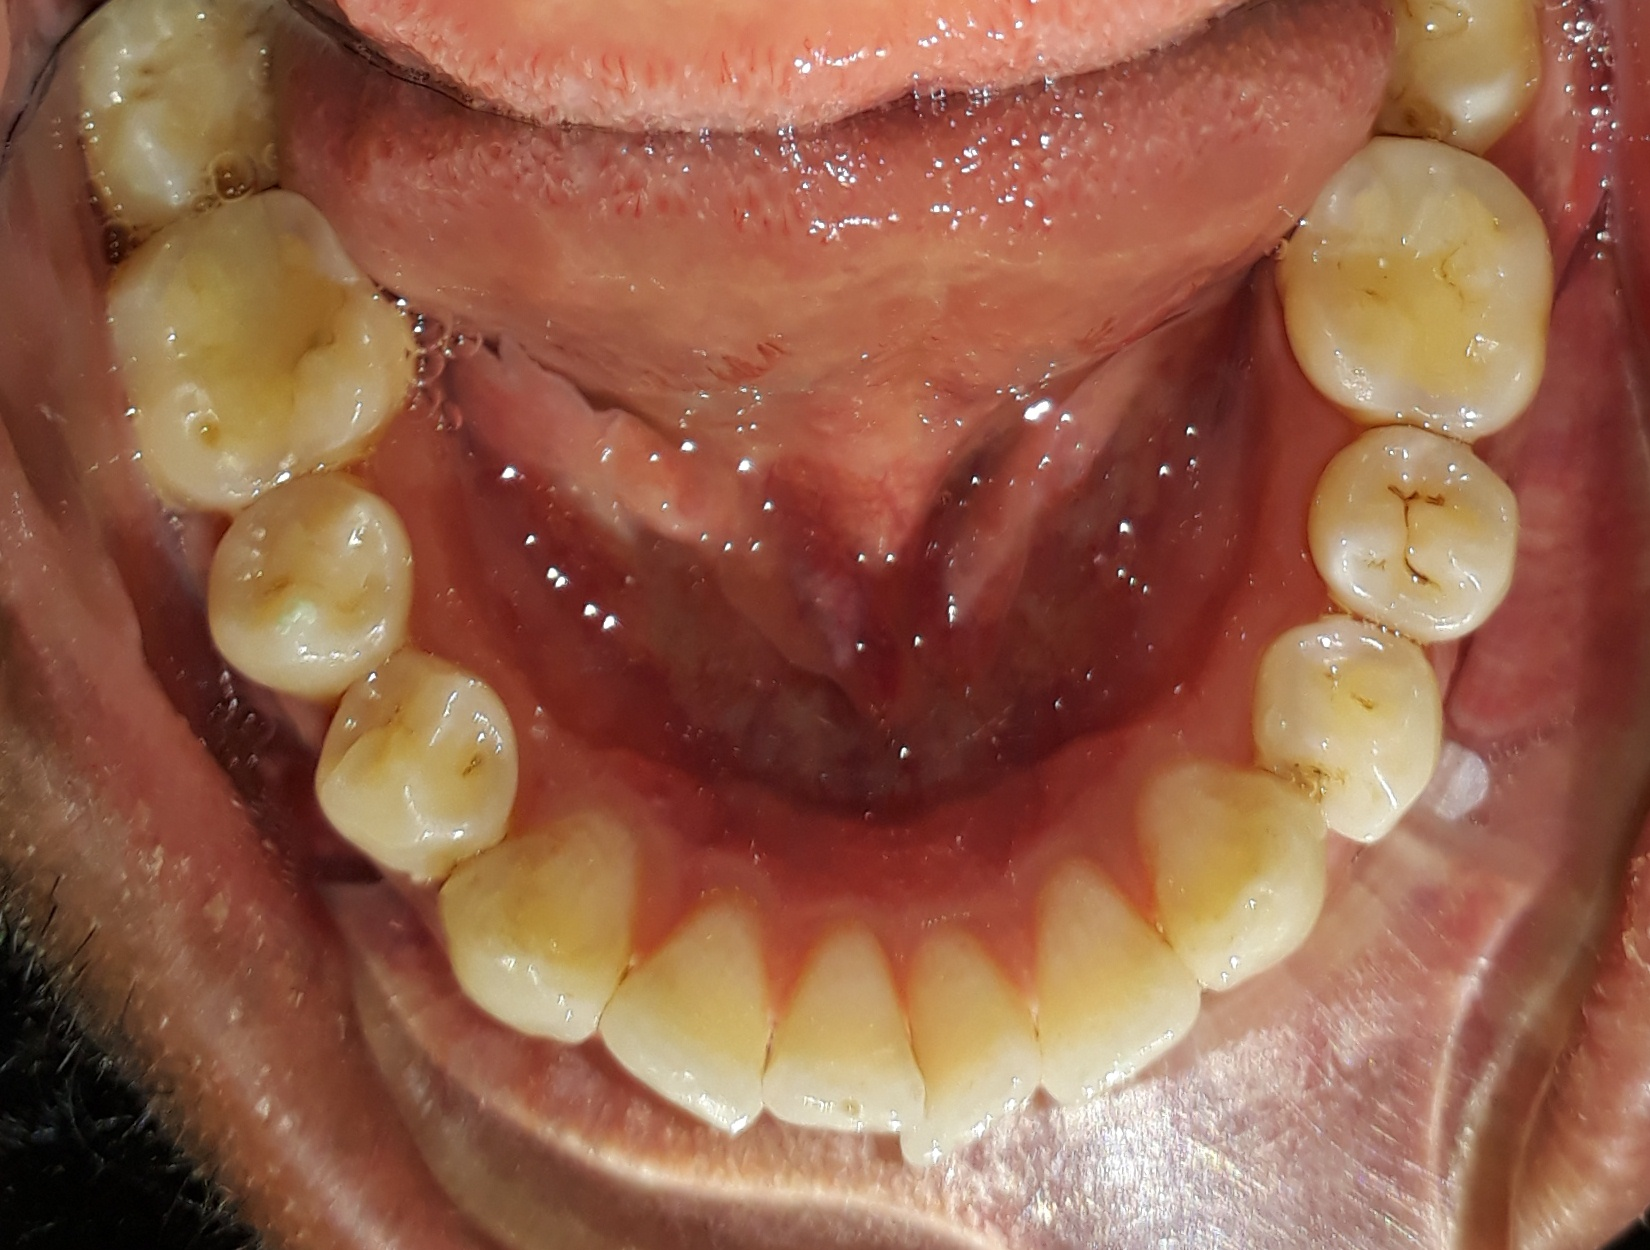1st Molar: (98, 206, 415, 488), (1279, 143, 1552, 423)
1st Premolar: (315, 655, 520, 872), (1254, 611, 1444, 840)
2nd Molar: (66, 0, 276, 204), (1394, 0, 1540, 140)
2nd Premolar: (1309, 425, 1517, 630), (205, 488, 415, 681)
Canine: (441, 809, 635, 1041), (1142, 759, 1324, 987)
Central Incisor: (771, 918, 912, 1134), (906, 922, 1030, 1155)
Lateral Incisor: (1026, 855, 1196, 1095), (601, 897, 771, 1133)
